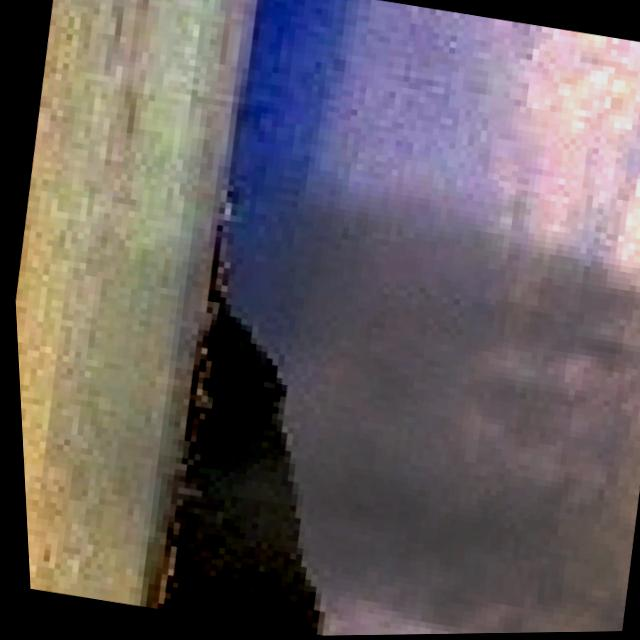smoke: (5, 114, 640, 640)
